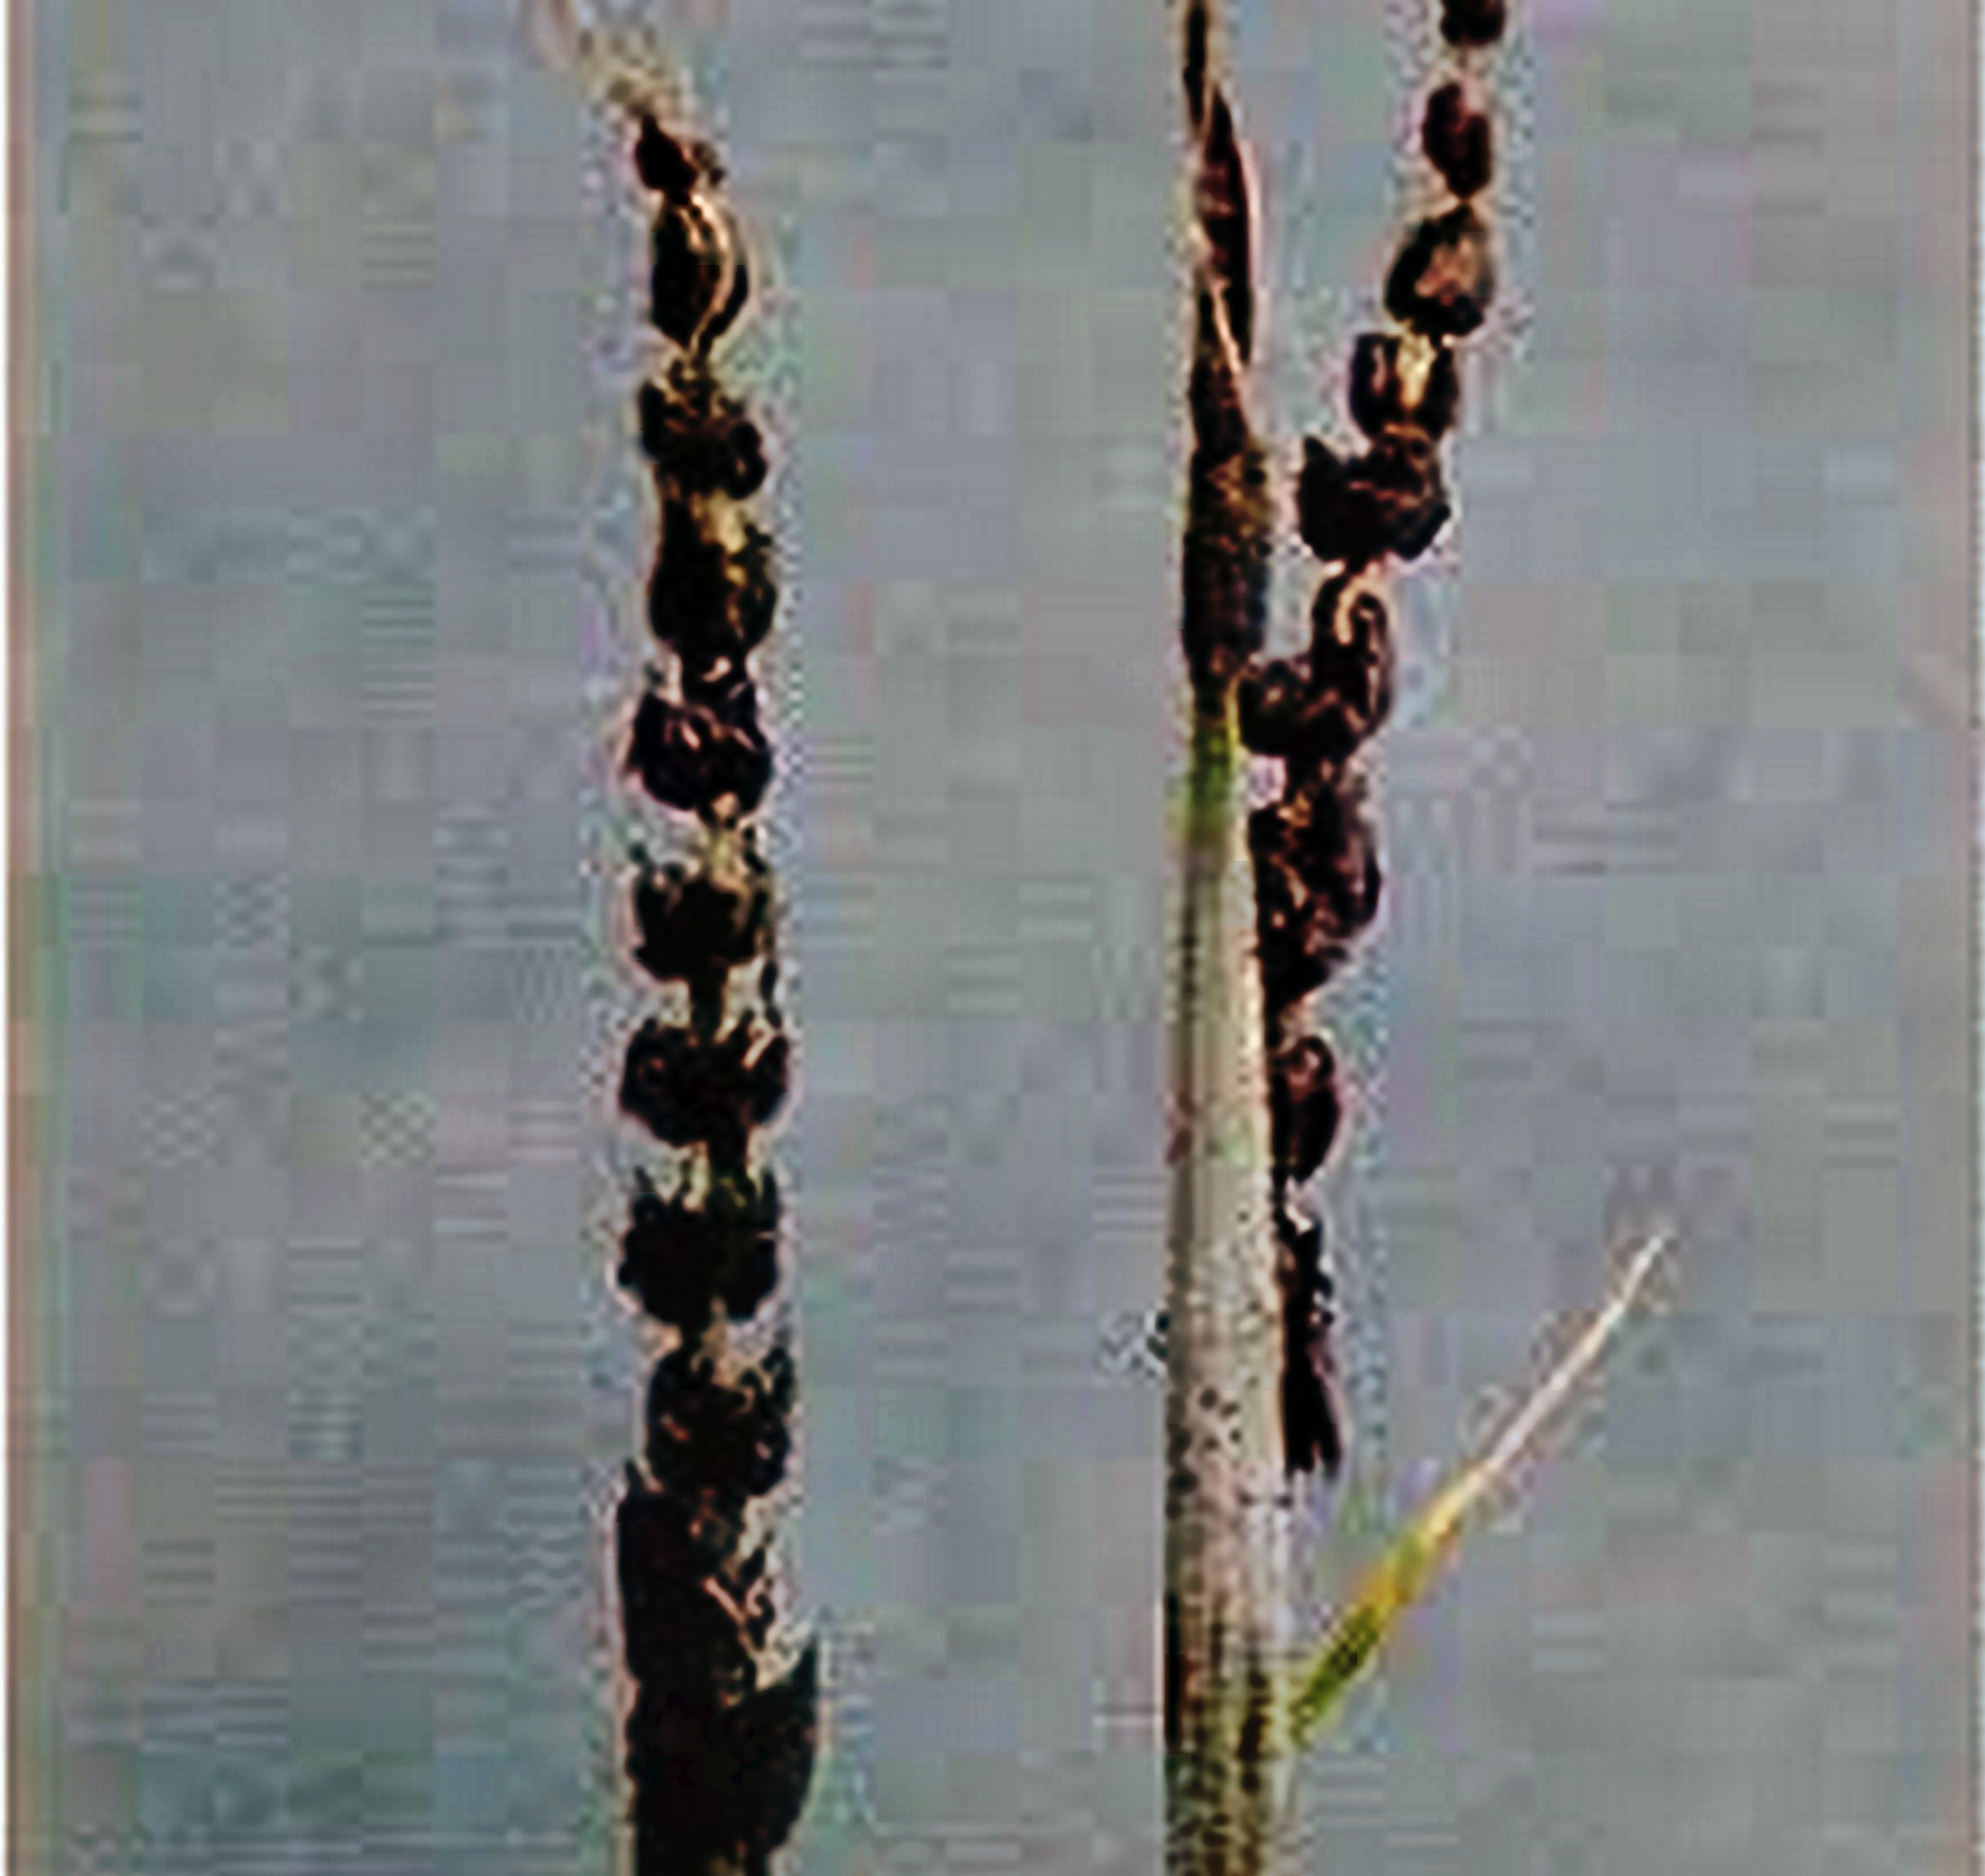Wheat Loose Smut: (546, 93, 897, 1820)
